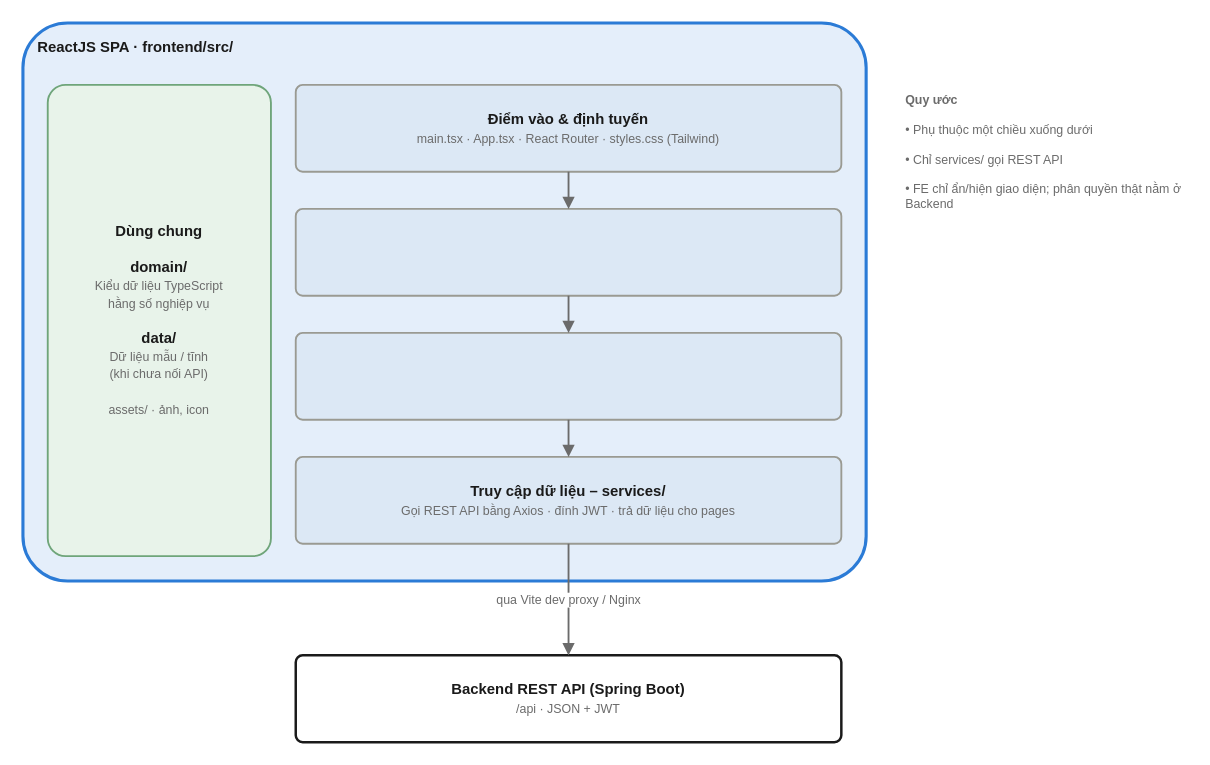
Image size: 1210x765. Some labels were removed from this diagram. Here are the shapes that lost their labels. From the top down, the centre of each, then its label:
At pixel 568 251: "Presentation – pages/ Màn hình theo route · ghép components · gọi services".
At pixel 568 375: "UI – components/ Thành phần giao diện tái sử dụng".
